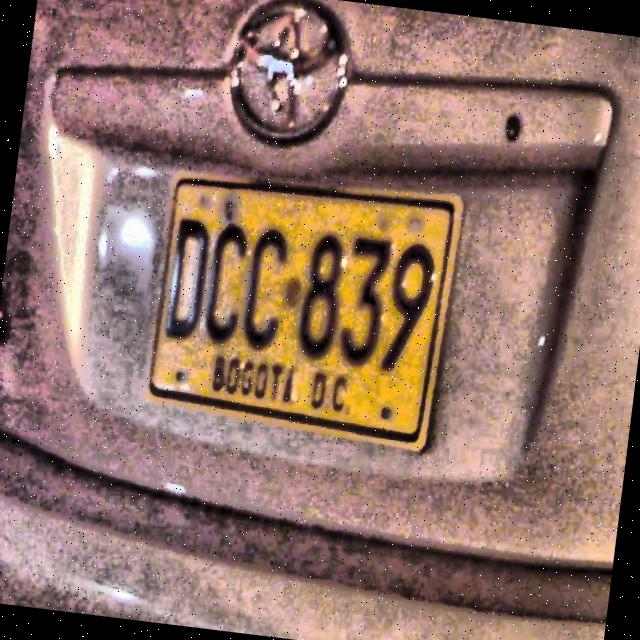3: (333, 233, 398, 370)
8: (291, 229, 349, 364)
9: (374, 237, 442, 375)
C: (235, 223, 294, 354), (199, 219, 255, 349)
D: (161, 214, 217, 344)
